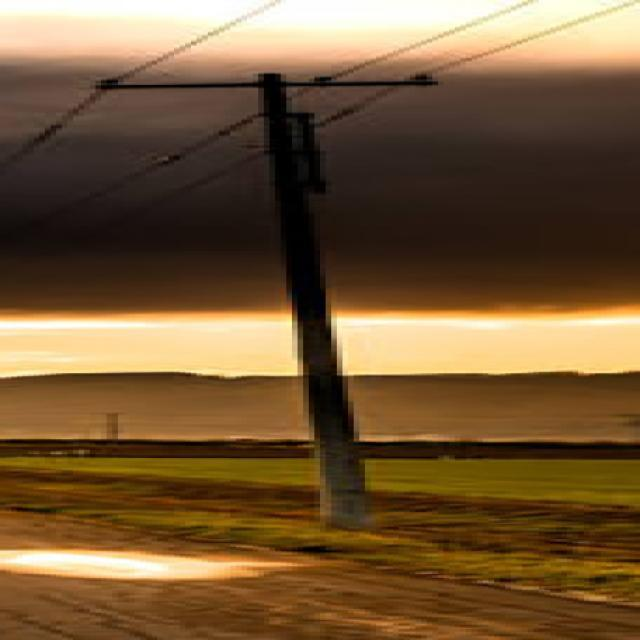pole: (56, 59, 488, 534)
